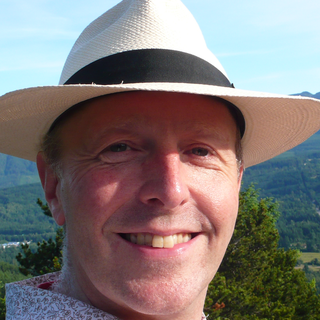eye: (95, 139, 143, 158), (179, 141, 221, 161)
